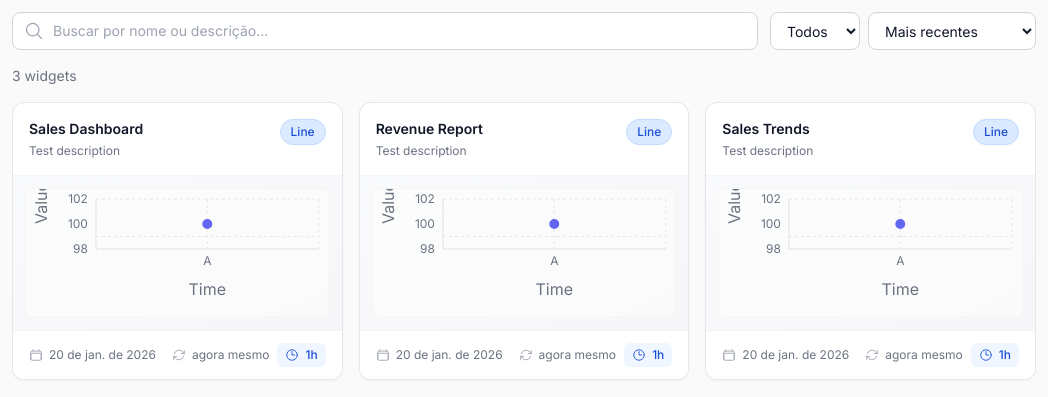
Test: WidgetList › Search Functionality › should filter widgets by name
Type "Sales" into the field with placeholder "Buscar por nome ou descrição...".
click(385, 31); type("Sales")  # box [12,12,758,50]
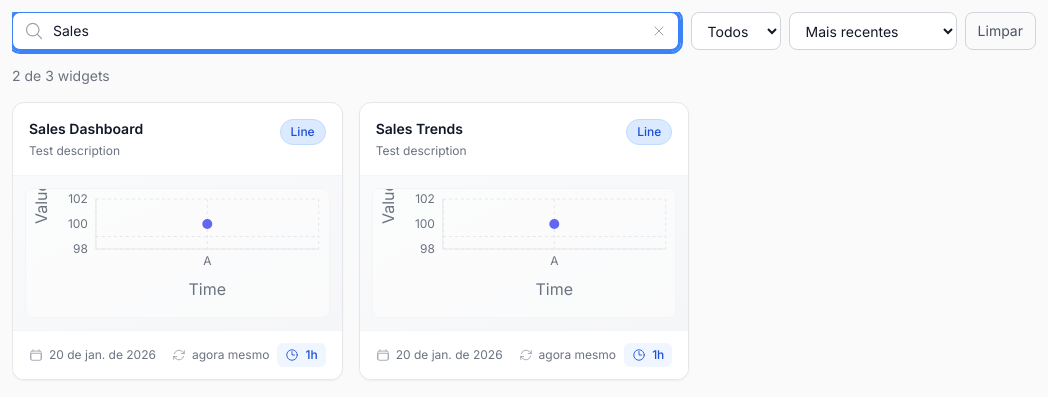
Check: the heading "Sales Dashboard" is shown, box [29,120,143,137]
Check: the heading "Revenue Report" is gone
